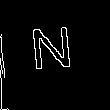N_S: (30, 28, 80, 82)
